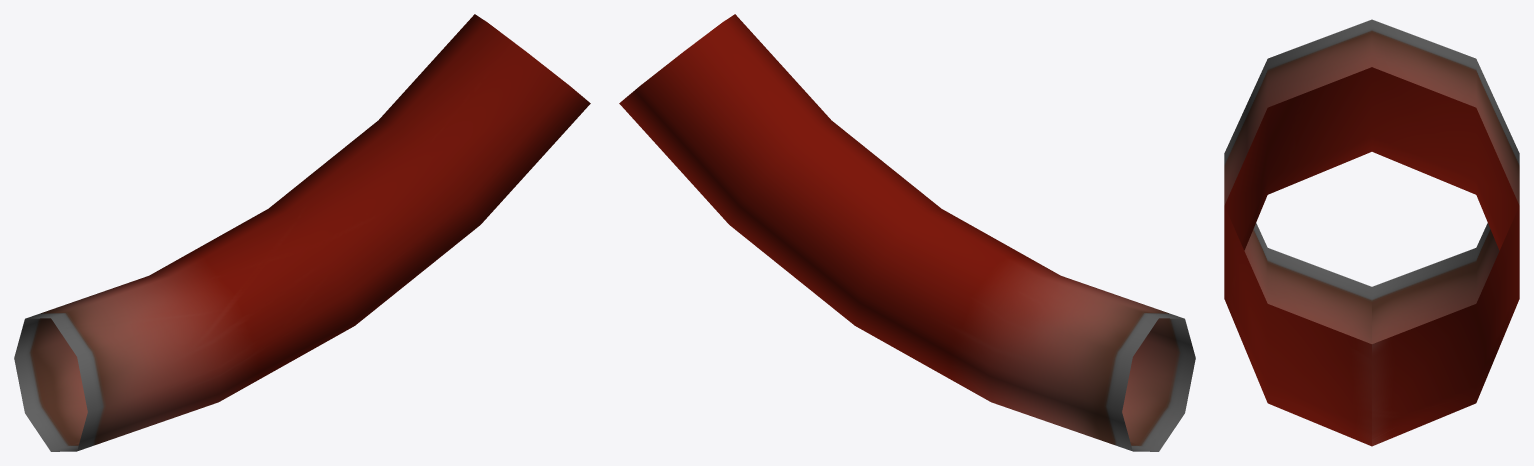
The model's file is pipe01_corner_128a_low.fbx.
3 views of the same model, side by side, from view 1: azimuth 30°, elevation 25°; view 2: azimuth 150°, elevation 25°; view 3: azimuth 270°, elevation 25° (orthographic). The views are drawn at different scales.
Parts seen in each view (by area): view 1: pipe01_corner_128a_low; view 2: pipe01_corner_128a_low; view 3: pipe01_corner_128a_low.
Part boxes in pixels (x1,y1,x2,y2): pipe01_corner_128a_low: [14, 14, 590, 451]; pipe01_corner_128a_low: [619, 14, 1195, 451]; pipe01_corner_128a_low: [1224, 19, 1519, 446].
Size of the model in its own units: 49.5 by 28.99 by 12.
